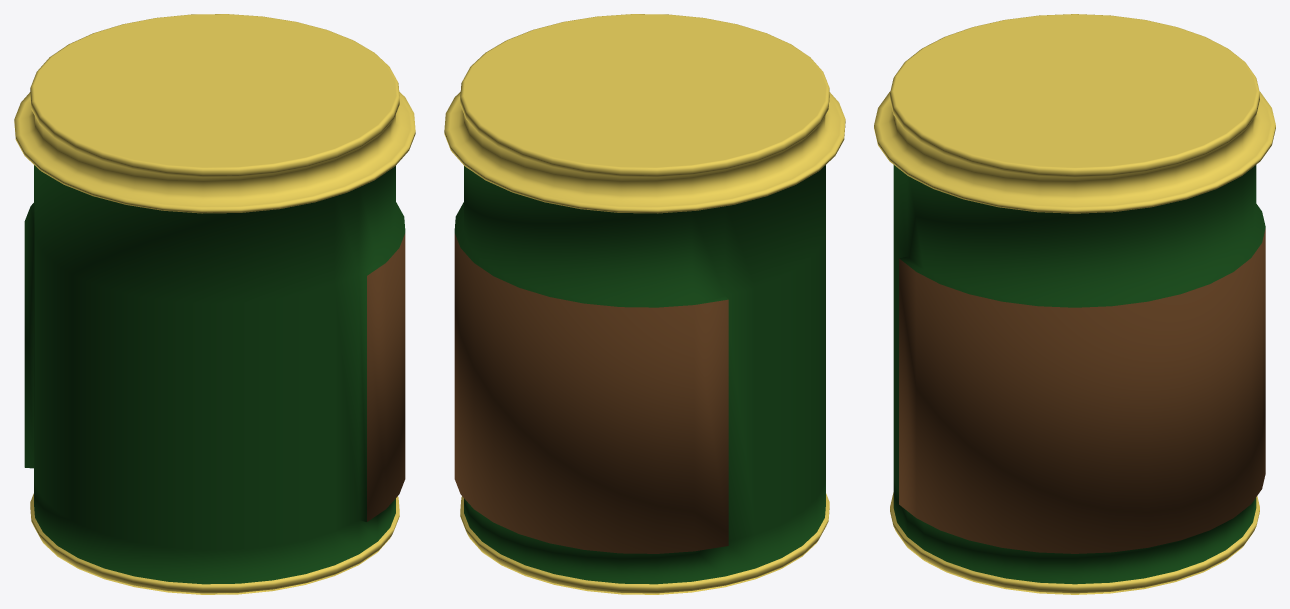
The model's file is santa-beer.glb.
3 renders of one model, left to right at view 1: azimuth 30°, elevation 25°; view 2: azimuth 150°, elevation 25°; view 3: azimuth 270°, elevation 25°, orthographic.
Parts seen in each view (by area): view 1: Cylinder; view 2: Cylinder; view 3: Cylinder.
Part boxes in pixels (<box>): Cylinder: <box>14,14,415,594</box>; Cylinder: <box>444,14,845,594</box>; Cylinder: <box>874,14,1275,594</box>.
Bounding box in the file's own units: 1.37 × 1.61 × 1.37.
